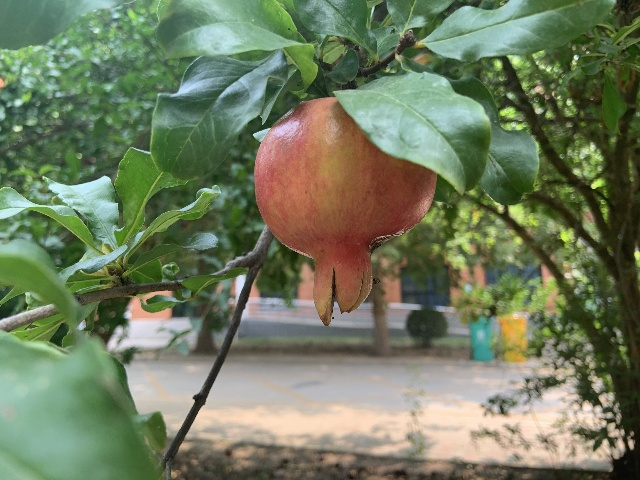ripe: (253, 96, 436, 324)
